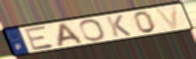0: (132, 10, 158, 34)
A: (57, 22, 86, 48)
E: (23, 25, 56, 52)
K: (104, 14, 133, 38)
O: (78, 18, 108, 42)
V: (154, 4, 181, 31)
